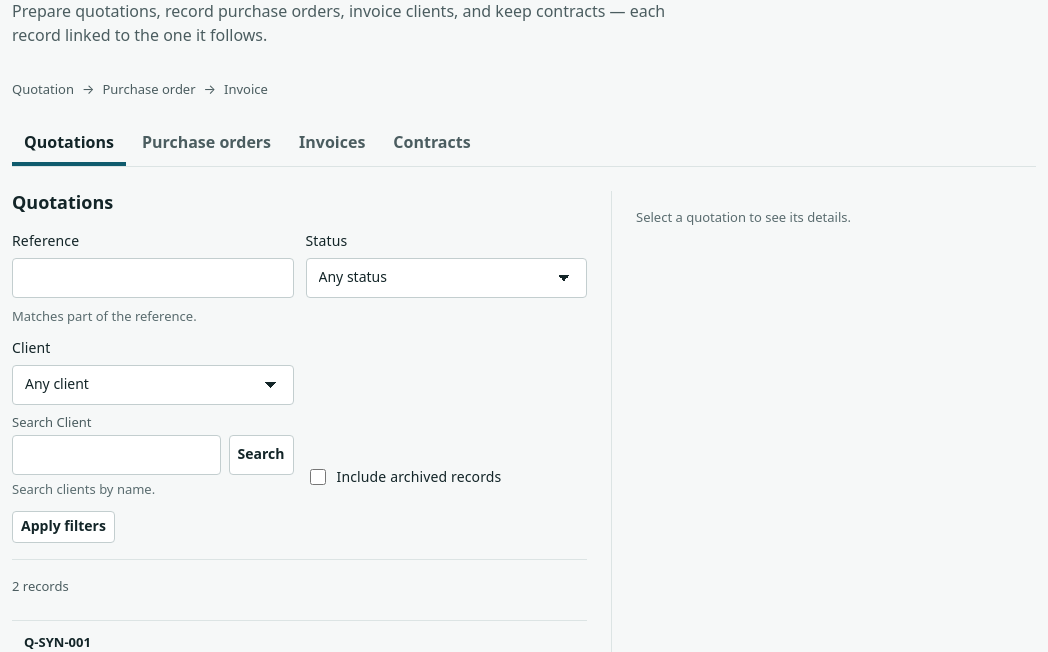
Test: CommercialPanel: lifecycle › runs Mark completed on a Contracts record without confirmation
Click the button "Contracts" at (432, 144), box [381, 122, 483, 166]
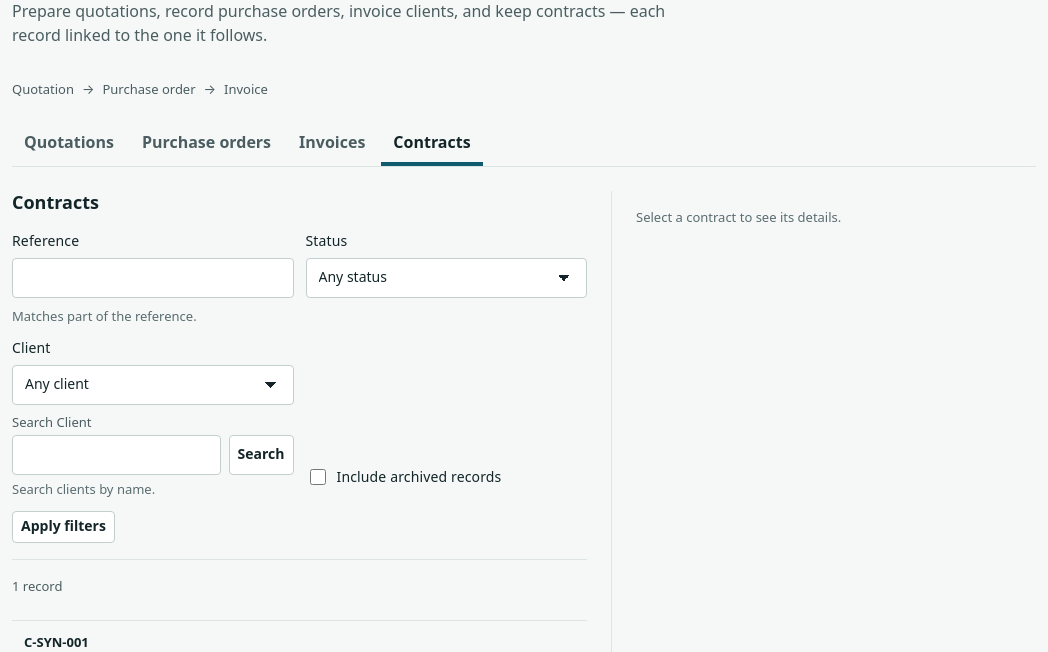
Now the button "Contracts" is pressed, box [381, 122, 483, 166]
Click the button "C-SYN-001" at (56, 642), box [24, 633, 89, 651]
(page scrolled)
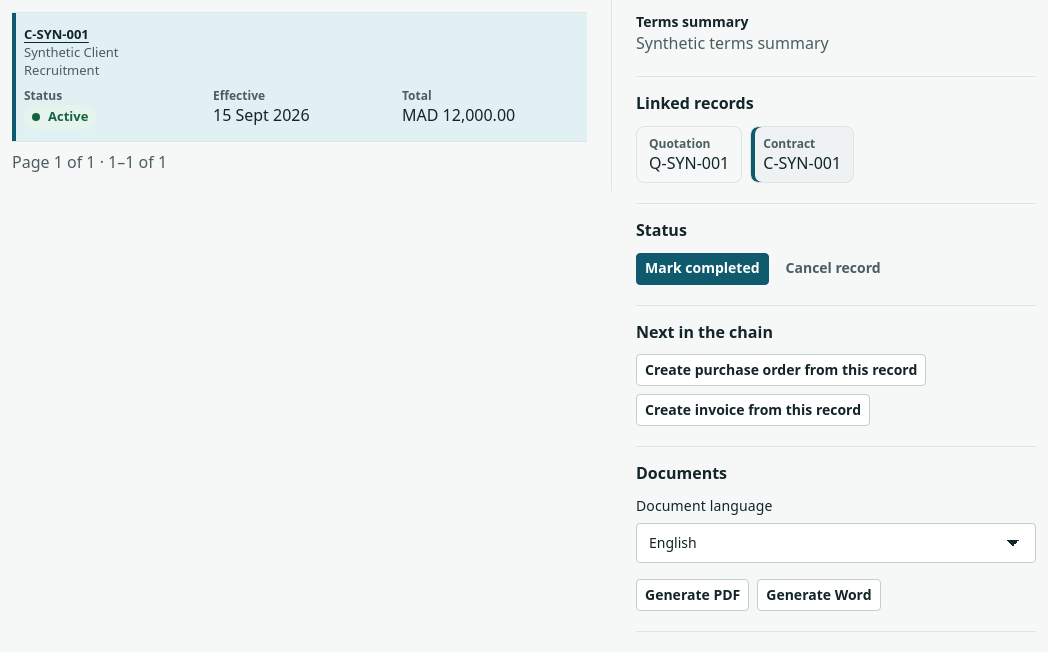
Click the button "Mark completed" at (702, 269), box [636, 253, 769, 285]
(page scrolled)
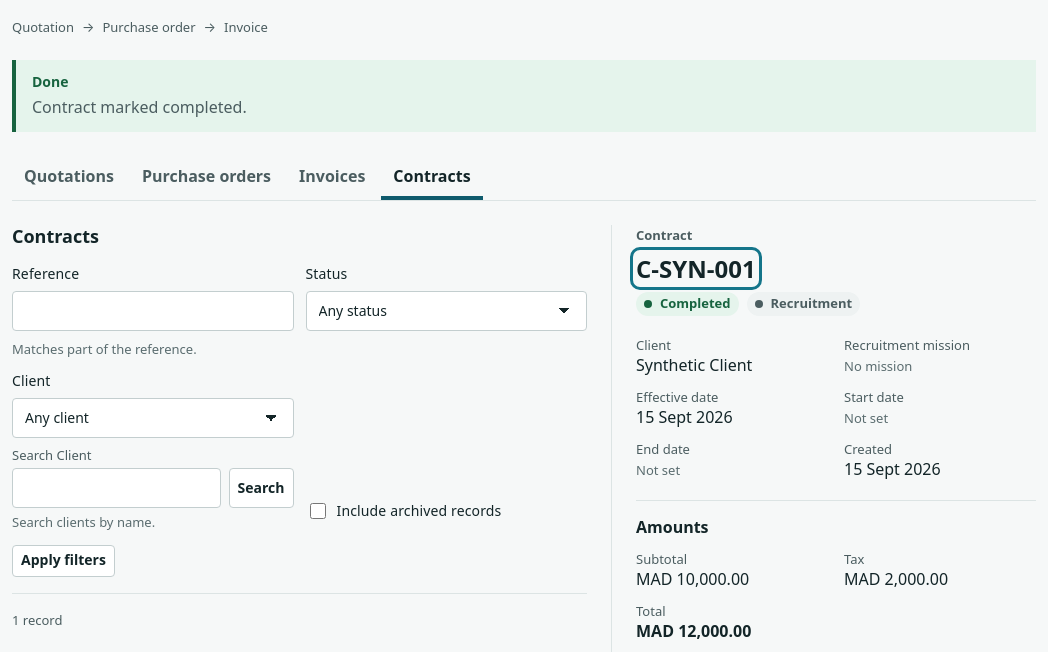
Now the text "Contract marked completed." is shown, box [32, 96, 247, 118]
